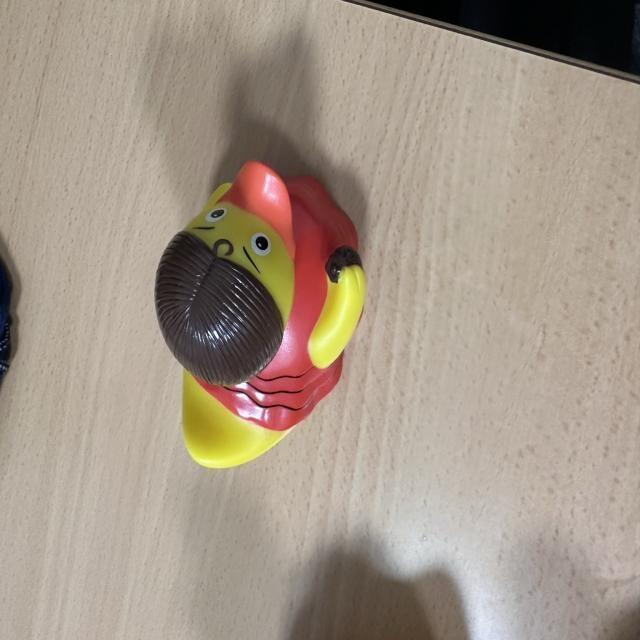rubber-duck: (155, 160, 363, 466)
